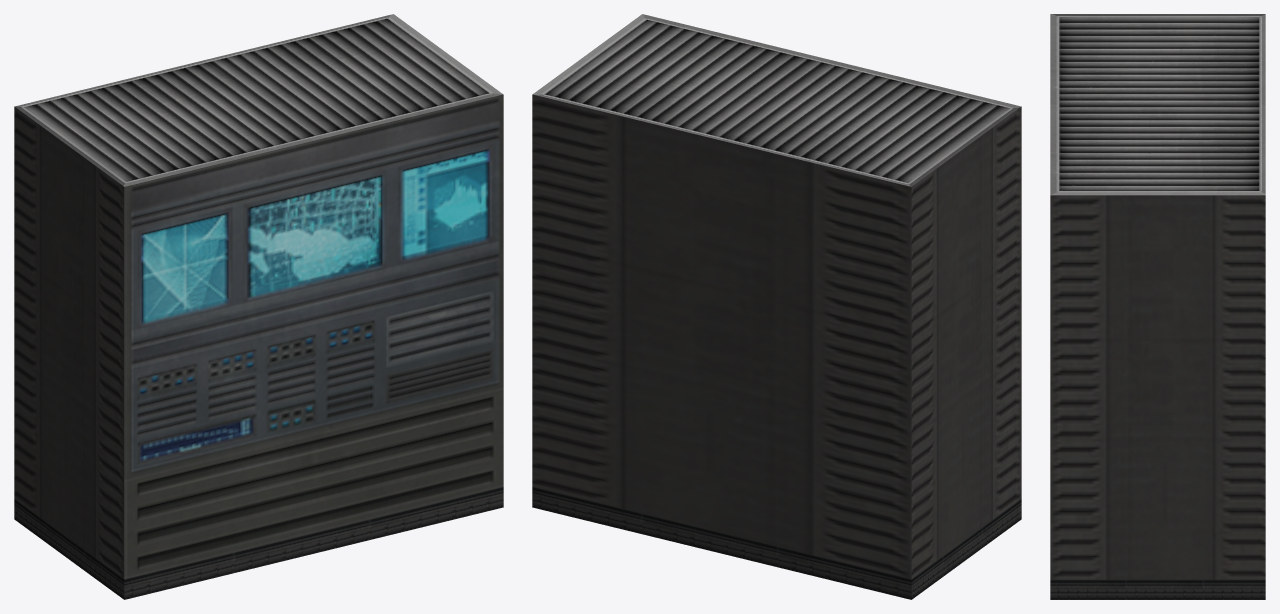
The model's file is armario-interno-G1.fbx.
3 views of the same model, side by side, from view 1: azimuth 30°, elevation 25°; view 2: azimuth 150°, elevation 25°; view 3: azimuth 270°, elevation 25° (orthographic). The views are drawn at different scales.
Parts seen in each view (by area): view 1: Cylinder; view 2: Cylinder; view 3: Cylinder.
Part boxes in pixels (<box>): Cylinder: <box>14,14,503,599</box>; Cylinder: <box>532,14,1021,599</box>; Cylinder: <box>1050,14,1265,599</box>.
Size of the model in its own units: 1.98 by 2.06 by 0.992.
